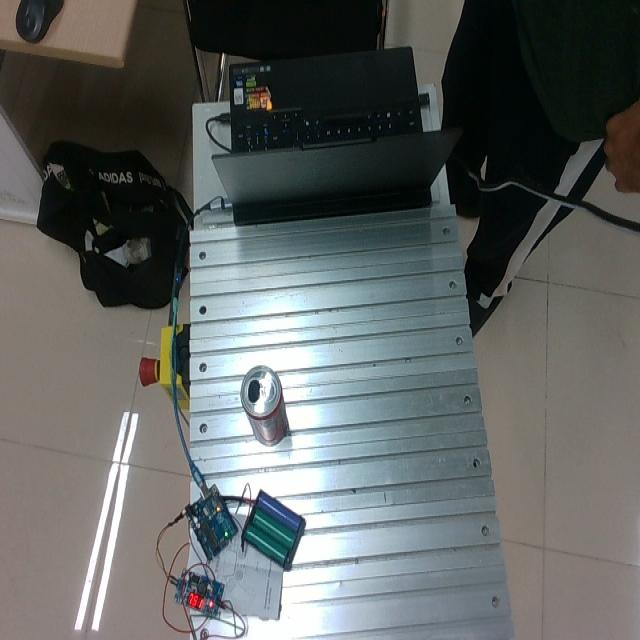coca: (240, 364, 287, 445)
